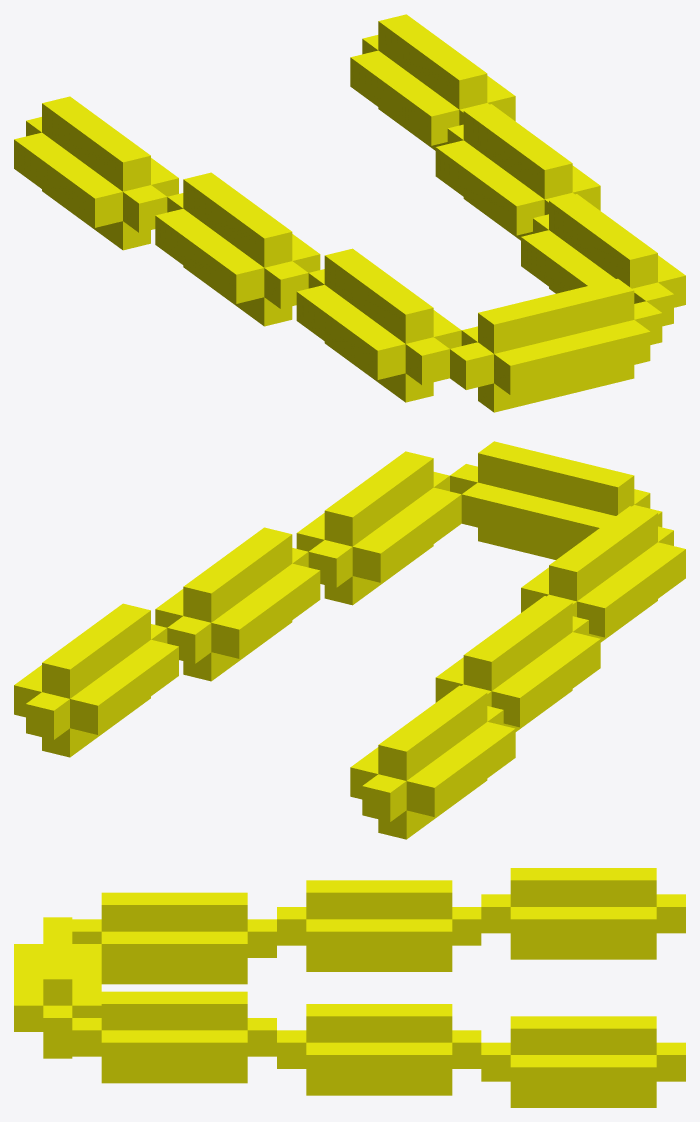
The model's file is voxel-village-sausage-links.glb.
The picture shows the model from 3 angles, top to bottom: view 1: azimuth 30°, elevation 25°; view 2: azimuth 150°, elevation 25°; view 3: azimuth 270°, elevation 25°; orthographic projection. The views are drawn at different scales.
Parts seen in each view (by area): view 1: VS_Villagers_SausageLinks; view 2: VS_Villagers_SausageLinks; view 3: VS_Villagers_SausageLinks.
Part boxes in pixels (left/top/right/bottom): VS_Villagers_SausageLinks: left=14, top=14, right=685, bottom=412; VS_Villagers_SausageLinks: left=14, top=441, right=685, bottom=839; VS_Villagers_SausageLinks: left=14, top=868, right=685, bottom=1107.
Size of the model in its own units: 1.5 by 0.2999 by 2.3.
